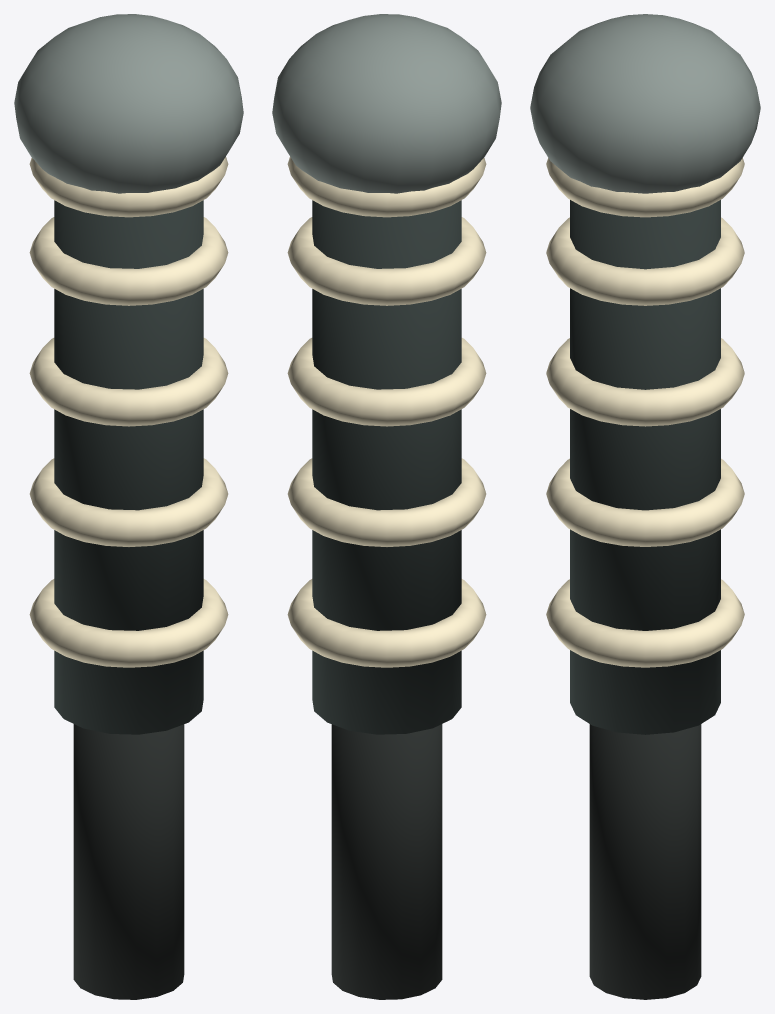
The model's file is baton.glb.
3 views of the same model, side by side, from view 1: azimuth 30°, elevation 25°; view 2: azimuth 150°, elevation 25°; view 3: azimuth 270°, elevation 25° (orthographic).
Parts seen in each view (by area): view 1: weapon_mechanism, weapon_lens, weapon_steel, weapon_rubber; view 2: weapon_mechanism, weapon_lens, weapon_steel, weapon_rubber; view 3: weapon_mechanism, weapon_lens, weapon_steel, weapon_rubber.
Boxes of the visible parts, box(x1,y1,x2,y2) form: weapon_mechanism: box(54, 200, 203, 734); weapon_lens: box(29, 157, 228, 667); weapon_steel: box(14, 14, 243, 193); weapon_rubber: box(73, 724, 184, 999); weapon_mechanism: box(312, 200, 461, 734); weapon_lens: box(287, 157, 486, 667); weapon_steel: box(272, 14, 501, 193); weapon_rubber: box(331, 724, 442, 999); weapon_mechanism: box(570, 200, 720, 734); weapon_lens: box(546, 158, 744, 667); weapon_steel: box(530, 14, 760, 193); weapon_rubber: box(589, 724, 701, 999).
Bounding box in the file's own units: 0.26 × 1.18 × 0.26.
